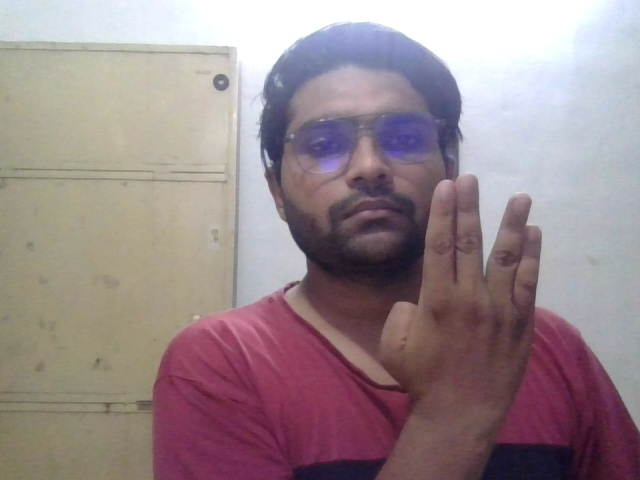LiveLong: (420, 169, 546, 401)
